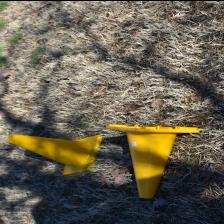cone: (106, 124, 200, 197), (7, 133, 102, 174)
